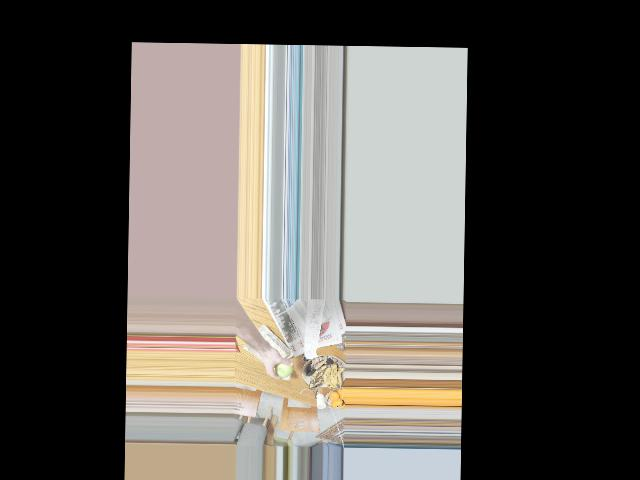apple: (270, 356, 294, 380)
